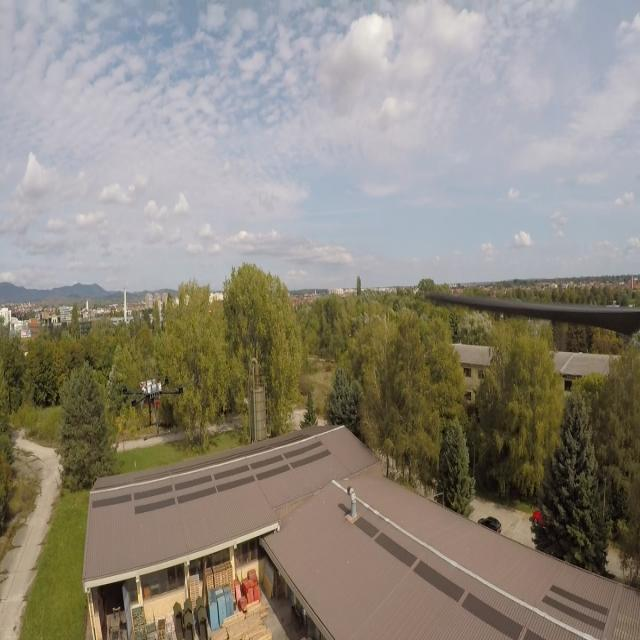UAV: (116, 368, 196, 443)
